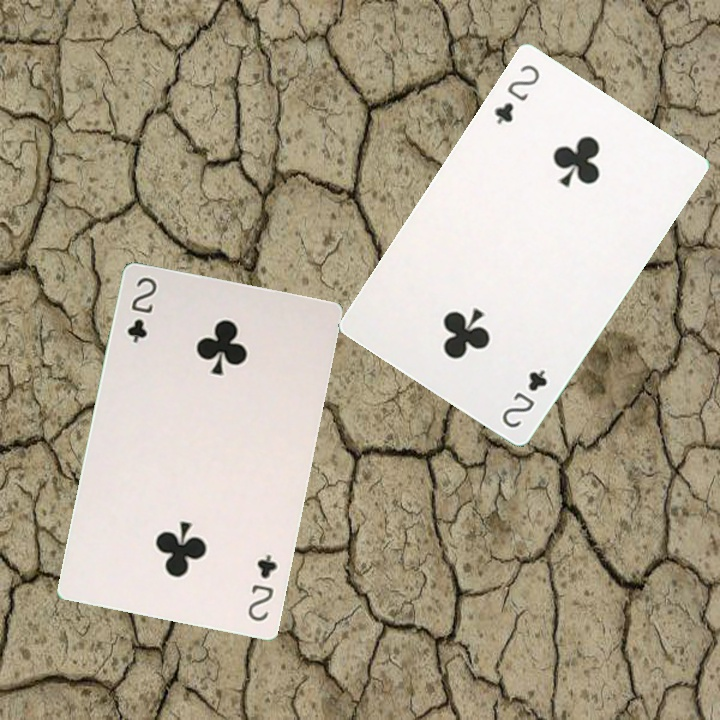2c: (490, 60, 543, 127), (498, 365, 550, 431), (243, 550, 280, 624), (123, 273, 160, 346)
